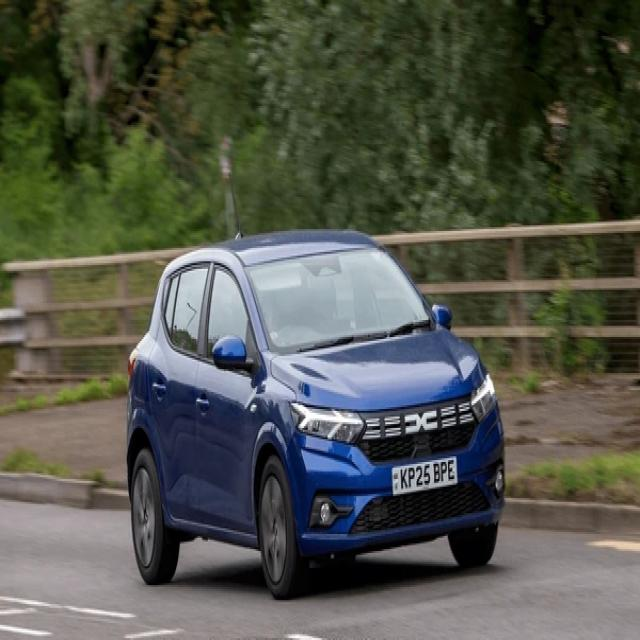dacia: (403, 408, 439, 435)
